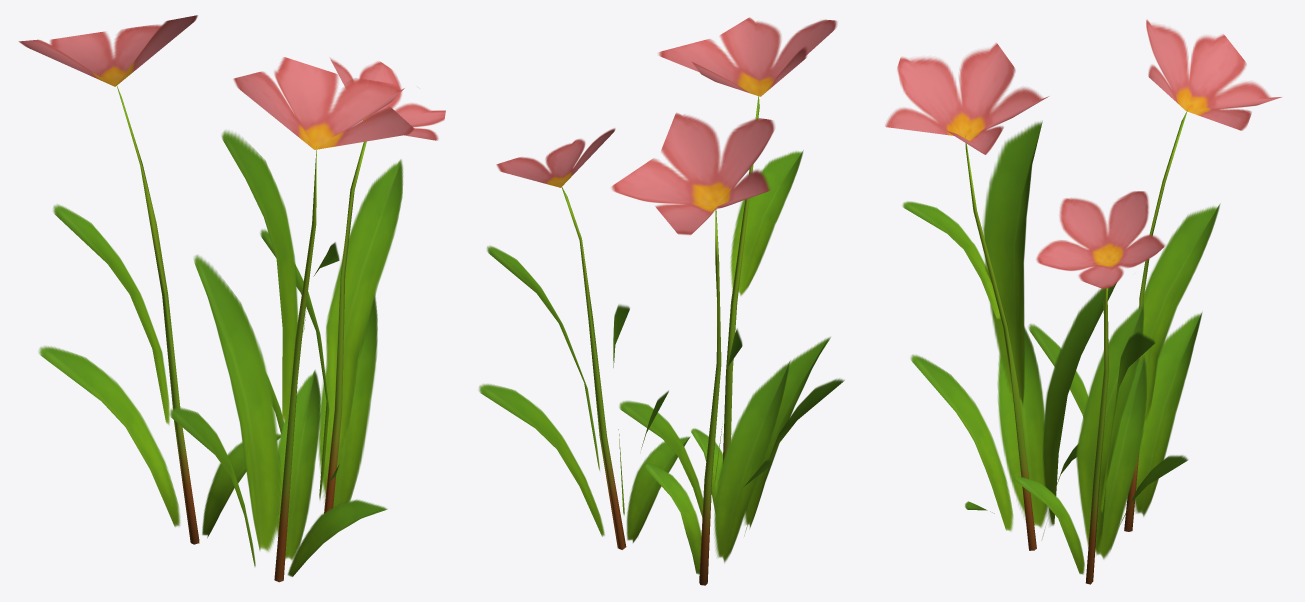
Rendered from flowers1.glb.
The picture shows the model from 3 angles, left to right: view 1: azimuth 30°, elevation 25°; view 2: azimuth 150°, elevation 25°; view 3: azimuth 270°, elevation 25°; orthographic projection. The views are drawn at different scales.
Parts seen in each view (by area): view 1: Flower_3_Group; view 2: Flower_3_Group; view 3: Flower_3_Group.
Part boxes in pixels (x1=…): Flower_3_Group: x1=18, y1=15, x2=445, y2=582; Flower_3_Group: x1=479, y1=17, x2=844, y2=585; Flower_3_Group: x1=885, y1=19, x2=1281, y2=584.
Size of the model in its own units: 1.49 by 2.05 by 1.59.
Materials: 2 (2 with a texture image).
